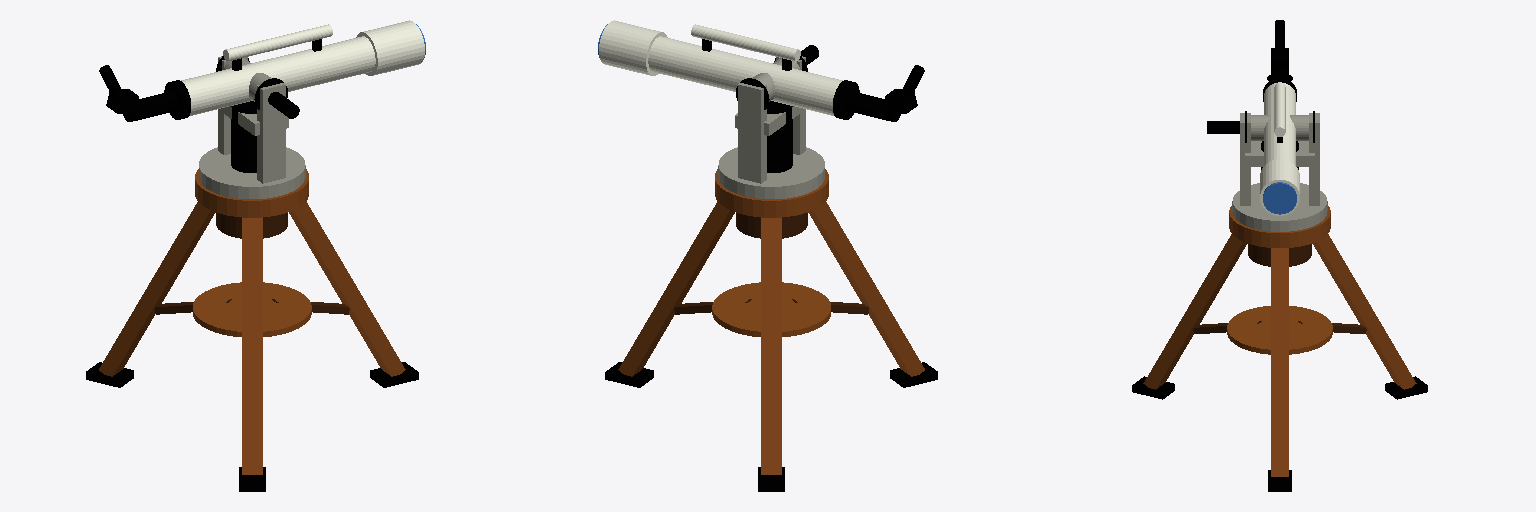
robot.urdf — refractor_telescope_altaz_tripod:
<robot name="refractor_telescope_altaz_tripod">
  <material name="warm_oiled_wood">
    <color rgba="0.55 0.31 0.13 1" />
    </material>
  <material name="dark_end_grain">
    <color rgba="0.28 0.16 0.08 1" />
    </material>
  <material name="white_enamel">
    <color rgba="0.92 0.92 0.86 1" />
    </material>
  <material name="satin_black">
    <color rgba="0.01 0.01 0.012 1" />
    </material>
  <material name="brushed_aluminum">
    <color rgba="0.62 0.62 0.58 1" />
    </material>
  <material name="blue_coated_glass">
    <color rgba="0.25 0.48 0.78 0.62" />
    </material>
  <link name="tripod">
    <visual name="tripod_top">
      <origin xyz="0 0 1.0125" rpy="0 0 0" />
      <geometry>
        <cylinder radius="0.23" length="0.075" />
        </geometry>
      <material name="warm_oiled_wood">
        <color rgba="0.55 0.31 0.13 1" />
        </material>
      </visual>
    <visual name="central_hub">
      <origin xyz="0 0 0.93" rpy="0 0 0" />
      <geometry>
        <cylinder radius="0.145" length="0.18" />
        </geometry>
      <material name="dark_end_grain">
        <color rgba="0.28 0.16 0.08 1" />
        </material>
      </visual>
    <visual name="accessory_tray">
      <origin xyz="0 0 0.46" rpy="0 0 0" />
      <geometry>
        <cylinder radius="0.24" length="0.025" />
        </geometry>
      <material name="warm_oiled_wood">
        <color rgba="0.55 0.31 0.13 1" />
        </material>
      </visual>
    <visual name="leg_0">
      <origin xyz="0.405 0 0.5075" rpy="0 2.64671 0" />
      <geometry>
        <box size="0.065 0.085 1.07384" />
        </geometry>
      <material name="warm_oiled_wood">
        <color rgba="0.55 0.31 0.13 1" />
        </material>
      </visual>
    <visual name="rubber_foot_0">
      <origin xyz="0.66 0 0.0175" rpy="0 0 0" />
      <geometry>
        <box size="0.16 0.11 0.035" />
        </geometry>
      <material name="satin_black">
        <color rgba="0.01 0.01 0.012 1" />
        </material>
      </visual>
    <visual name="tray_brace_0">
      <origin xyz="0.27 0 0.41" rpy="0 1.85685 0" />
      <geometry>
        <box size="0.032 0.038 0.354401" />
        </geometry>
      <material name="dark_end_grain">
        <color rgba="0.28 0.16 0.08 1" />
        </material>
      </visual>
    <visual name="leg_1">
      <origin xyz="-0.2025 0.35074 0.5075" rpy="0 2.64671 2.0944" />
      <geometry>
        <box size="0.065 0.085 1.07384" />
        </geometry>
      <material name="warm_oiled_wood">
        <color rgba="0.55 0.31 0.13 1" />
        </material>
      </visual>
    <visual name="rubber_foot_1">
      <origin xyz="-0.33 0.571577 0.0175" rpy="0 0 2.0944" />
      <geometry>
        <box size="0.16 0.11 0.035" />
        </geometry>
      <material name="satin_black">
        <color rgba="0.01 0.01 0.012 1" />
        </material>
      </visual>
    <visual name="tray_brace_1">
      <origin xyz="-0.135 0.233827 0.41" rpy="0 1.85685 2.0944" />
      <geometry>
        <box size="0.032 0.038 0.354401" />
        </geometry>
      <material name="dark_end_grain">
        <color rgba="0.28 0.16 0.08 1" />
        </material>
      </visual>
    <visual name="leg_2">
      <origin xyz="-0.2025 -0.35074 0.5075" rpy="0 2.64671 4.18879" />
      <geometry>
        <box size="0.065 0.085 1.07384" />
        </geometry>
      <material name="warm_oiled_wood">
        <color rgba="0.55 0.31 0.13 1" />
        </material>
      </visual>
    <visual name="rubber_foot_2">
      <origin xyz="-0.33 -0.571577 0.0175" rpy="0 0 4.18879" />
      <geometry>
        <box size="0.16 0.11 0.035" />
        </geometry>
      <material name="satin_black">
        <color rgba="0.01 0.01 0.012 1" />
        </material>
      </visual>
    <visual name="tray_brace_2">
      <origin xyz="-0.135 -0.233827 0.41" rpy="0 1.85685 4.18879" />
      <geometry>
        <box size="0.032 0.038 0.354401" />
        </geometry>
      <material name="dark_end_grain">
        <color rgba="0.28 0.16 0.08 1" />
        </material>
      </visual>
    <collision name="tripod_top">
      <origin xyz="0 0 1.0125" rpy="0 0 0" />
      <geometry>
        <cylinder radius="0.23" length="0.075" />
        </geometry>
      </collision>
    <collision name="central_hub">
      <origin xyz="0 0 0.93" rpy="0 0 0" />
      <geometry>
        <cylinder radius="0.145" length="0.18" />
        </geometry>
      </collision>
    <collision name="accessory_tray">
      <origin xyz="0 0 0.46" rpy="0 0 0" />
      <geometry>
        <cylinder radius="0.24" length="0.025" />
        </geometry>
      </collision>
    <collision name="leg_0">
      <origin xyz="0.405 0 0.5075" rpy="0 2.64671 0" />
      <geometry>
        <box size="0.065 0.085 1.07384" />
        </geometry>
      </collision>
    <collision name="rubber_foot_0">
      <origin xyz="0.66 0 0.0175" rpy="0 0 0" />
      <geometry>
        <box size="0.16 0.11 0.035" />
        </geometry>
      </collision>
    <collision name="tray_brace_0">
      <origin xyz="0.27 0 0.41" rpy="0 1.85685 0" />
      <geometry>
        <box size="0.032 0.038 0.354401" />
        </geometry>
      </collision>
    <collision name="leg_1">
      <origin xyz="-0.2025 0.35074 0.5075" rpy="0 2.64671 2.0944" />
      <geometry>
        <box size="0.065 0.085 1.07384" />
        </geometry>
      </collision>
    <collision name="rubber_foot_1">
      <origin xyz="-0.33 0.571577 0.0175" rpy="0 0 2.0944" />
      <geometry>
        <box size="0.16 0.11 0.035" />
        </geometry>
      </collision>
    <collision name="tray_brace_1">
      <origin xyz="-0.135 0.233827 0.41" rpy="0 1.85685 2.0944" />
      <geometry>
        <box size="0.032 0.038 0.354401" />
        </geometry>
      </collision>
    <collision name="leg_2">
      <origin xyz="-0.2025 -0.35074 0.5075" rpy="0 2.64671 4.18879" />
      <geometry>
        <box size="0.065 0.085 1.07384" />
        </geometry>
      </collision>
    <collision name="rubber_foot_2">
      <origin xyz="-0.33 -0.571577 0.0175" rpy="0 0 4.18879" />
      <geometry>
        <box size="0.16 0.11 0.035" />
        </geometry>
      </collision>
    <collision name="tray_brace_2">
      <origin xyz="-0.135 -0.233827 0.41" rpy="0 1.85685 4.18879" />
      <geometry>
        <box size="0.032 0.038 0.354401" />
        </geometry>
      </collision>
    </link>
  <link name="azimuth_mount">
    <visual name="azimuth_turntable">
      <origin xyz="0 0 0.0275" rpy="0 0 0" />
      <geometry>
        <cylinder radius="0.215" length="0.055" />
        </geometry>
      <material name="brushed_aluminum">
        <color rgba="0.62 0.62 0.58 1" />
        </material>
      </visual>
    <visual name="center_post">
      <origin xyz="0 0 0.19" rpy="0 0 0" />
      <geometry>
        <cylinder radius="0.085" length="0.3" />
        </geometry>
      <material name="satin_black">
        <color rgba="0.01 0.01 0.012 1" />
        </material>
      </visual>
    <visual name="fork_bridge">
      <origin xyz="0 0 0.29" rpy="0 0 0" />
      <geometry>
        <box size="0.16 0.32 0.055" />
        </geometry>
      <material name="brushed_aluminum">
        <color rgba="0.62 0.62 0.58 1" />
        </material>
      </visual>
    <visual name="fork_arm_0">
      <origin xyz="0 -0.155 0.255" rpy="0 0 0" />
      <geometry>
        <box size="0.11 0.05 0.43" />
        </geometry>
      <material name="brushed_aluminum">
        <color rgba="0.62 0.62 0.58 1" />
        </material>
      </visual>
    <visual name="altitude_bushing_0">
      <origin xyz="0 -0.154225 0.42" rpy="1.5708 0 0" />
      <geometry>
        <cylinder radius="0.075" length="0.012" />
        </geometry>
      <material name="satin_black">
        <color rgba="0.01 0.01 0.012 1" />
        </material>
      </visual>
    <visual name="fork_arm_1">
      <origin xyz="0 0.155 0.255" rpy="0 0 0" />
      <geometry>
        <box size="0.11 0.05 0.43" />
        </geometry>
      <material name="brushed_aluminum">
        <color rgba="0.62 0.62 0.58 1" />
        </material>
      </visual>
    <visual name="altitude_bushing_1">
      <origin xyz="0 0.154225 0.42" rpy="1.5708 0 0" />
      <geometry>
        <cylinder radius="0.075" length="0.012" />
        </geometry>
      <material name="satin_black">
        <color rgba="0.01 0.01 0.012 1" />
        </material>
      </visual>
    <visual name="altitude_lock_knob">
      <origin xyz="0 -0.24 0.42" rpy="1.5708 0 0" />
      <geometry>
        <cylinder radius="0.03" length="0.18" />
        </geometry>
      <material name="satin_black">
        <color rgba="0.01 0.01 0.012 1" />
        </material>
      </visual>
    <collision name="azimuth_turntable">
      <origin xyz="0 0 0.0275" rpy="0 0 0" />
      <geometry>
        <cylinder radius="0.215" length="0.055" />
        </geometry>
      </collision>
    <collision name="center_post">
      <origin xyz="0 0 0.19" rpy="0 0 0" />
      <geometry>
        <cylinder radius="0.085" length="0.3" />
        </geometry>
      </collision>
    <collision name="fork_bridge">
      <origin xyz="0 0 0.29" rpy="0 0 0" />
      <geometry>
        <box size="0.16 0.32 0.055" />
        </geometry>
      </collision>
    <collision name="fork_arm_0">
      <origin xyz="0 -0.155 0.255" rpy="0 0 0" />
      <geometry>
        <box size="0.11 0.05 0.43" />
        </geometry>
      </collision>
    <collision name="altitude_bushing_0">
      <origin xyz="0 -0.154225 0.42" rpy="1.5708 0 0" />
      <geometry>
        <cylinder radius="0.075" length="0.012" />
        </geometry>
      </collision>
    <collision name="fork_arm_1">
      <origin xyz="0 0.155 0.255" rpy="0 0 0" />
      <geometry>
        <box size="0.11 0.05 0.43" />
        </geometry>
      </collision>
    <collision name="altitude_bushing_1">
      <origin xyz="0 0.154225 0.42" rpy="1.5708 0 0" />
      <geometry>
        <cylinder radius="0.075" length="0.012" />
        </geometry>
      </collision>
    <collision name="altitude_lock_knob">
      <origin xyz="0 -0.24 0.42" rpy="1.5708 0 0" />
      <geometry>
        <cylinder radius="0.03" length="0.18" />
        </geometry>
      </collision>
    </link>
  <link name="telescope">
    <visual name="main_tube">
      <origin xyz="0.1 0 0" rpy="0 1.5708 0" />
      <geometry>
        <cylinder radius="0.074" length="0.86" />
        </geometry>
      <material name="white_enamel">
        <color rgba="0.92 0.92 0.86 1" />
        </material>
      </visual>
    <visual name="dew_shield">
      <origin xyz="0.64 0 0" rpy="0 1.5708 0" />
      <geometry>
        <cylinder radius="0.091" length="0.22" />
        </geometry>
      <material name="white_enamel">
        <color rgba="0.92 0.92 0.86 1" />
        </material>
      </visual>
    <visual name="objective_lens">
      <origin xyz="0.756 0 0" rpy="0 1.5708 0" />
      <geometry>
        <cylinder radius="0.078" length="0.012" />
        </geometry>
      <material name="blue_coated_glass">
        <color rgba="0.25 0.48 0.78 0.62" />
        </material>
      </visual>
    <visual name="rear_cell">
      <origin xyz="-0.345 0 0" rpy="0 1.5708 0" />
      <geometry>
        <cylinder radius="0.079" length="0.035" />
        </geometry>
      <material name="satin_black">
        <color rgba="0.01 0.01 0.012 1" />
        </material>
      </visual>
    <visual name="focuser_tube">
      <origin xyz="-0.47 0 0" rpy="0 1.5708 0" />
      <geometry>
        <cylinder radius="0.041" length="0.22" />
        </geometry>
      <material name="satin_black">
        <color rgba="0.01 0.01 0.012 1" />
        </material>
      </visual>
    <visual name="star_diagonal">
      <origin xyz="-0.6 0 0.055" rpy="0 0.25 0" />
      <geometry>
        <box size="0.09 0.085 0.075" />
        </geometry>
      <material name="satin_black">
        <color rgba="0.01 0.01 0.012 1" />
        </material>
      </visual>
    <visual name="eyepiece">
      <origin xyz="-0.645 0 0.135" rpy="0 -0.45 0" />
      <geometry>
        <cylinder radius="0.024" length="0.18" />
        </geometry>
      <material name="satin_black">
        <color rgba="0.01 0.01 0.012 1" />
        </material>
      </visual>
    <visual name="altitude_axle">
      <origin xyz="0 0 0" rpy="1.5708 0 0" />
      <geometry>
        <cylinder radius="0.059" length="0.26" />
        </geometry>
      <material name="brushed_aluminum">
        <color rgba="0.62 0.62 0.58 1" />
        </material>
      </visual>
    <visual name="finder_scope">
      <origin xyz="0.12 0 0.145" rpy="0 1.5708 0" />
      <geometry>
        <cylinder radius="0.025" length="0.48" />
        </geometry>
      <material name="white_enamel">
        <color rgba="0.92 0.92 0.86 1" />
        </material>
      </visual>
    <visual name="finder_bracket_0">
      <origin xyz="-0.07 0 0.095" rpy="0 0 0" />
      <geometry>
        <box size="0.035 0.025 0.105" />
        </geometry>
      <material name="satin_black">
        <color rgba="0.01 0.01 0.012 1" />
        </material>
      </visual>
    <visual name="finder_bracket_1">
      <origin xyz="0.3 0 0.095" rpy="0 0 0" />
      <geometry>
        <box size="0.035 0.025 0.105" />
        </geometry>
      <material name="satin_black">
        <color rgba="0.01 0.01 0.012 1" />
        </material>
      </visual>
    <visual name="focus_knob_0">
      <origin xyz="-0.53 -0.045 0" rpy="0 0 0" />
      <geometry>
        <sphere radius="0.014" />
        </geometry>
      <material name="satin_black">
        <color rgba="0.01 0.01 0.012 1" />
        </material>
      </visual>
    <visual name="focus_knob_1">
      <origin xyz="-0.53 0.045 0" rpy="0 0 0" />
      <geometry>
        <sphere radius="0.014" />
        </geometry>
      <material name="satin_black">
        <color rgba="0.01 0.01 0.012 1" />
        </material>
      </visual>
    <collision name="main_tube">
      <origin xyz="0.1 0 0" rpy="0 1.5708 0" />
      <geometry>
        <cylinder radius="0.074" length="0.86" />
        </geometry>
      </collision>
    <collision name="dew_shield">
      <origin xyz="0.64 0 0" rpy="0 1.5708 0" />
      <geometry>
        <cylinder radius="0.091" length="0.22" />
        </geometry>
      </collision>
    <collision name="objective_lens">
      <origin xyz="0.756 0 0" rpy="0 1.5708 0" />
      <geometry>
        <cylinder radius="0.078" length="0.012" />
        </geometry>
      </collision>
    <collision name="rear_cell">
      <origin xyz="-0.345 0 0" rpy="0 1.5708 0" />
      <geometry>
        <cylinder radius="0.079" length="0.035" />
        </geometry>
      </collision>
    <collision name="focuser_tube">
      <origin xyz="-0.47 0 0" rpy="0 1.5708 0" />
      <geometry>
        <cylinder radius="0.041" length="0.22" />
        </geometry>
      </collision>
    <collision name="star_diagonal">
      <origin xyz="-0.6 0 0.055" rpy="0 0.25 0" />
      <geometry>
        <box size="0.09 0.085 0.075" />
        </geometry>
      </collision>
    <collision name="eyepiece">
      <origin xyz="-0.645 0 0.135" rpy="0 -0.45 0" />
      <geometry>
        <cylinder radius="0.024" length="0.18" />
        </geometry>
      </collision>
    <collision name="altitude_axle">
      <origin xyz="0 0 0" rpy="1.5708 0 0" />
      <geometry>
        <cylinder radius="0.059" length="0.26" />
        </geometry>
      </collision>
    <collision name="finder_scope">
      <origin xyz="0.12 0 0.145" rpy="0 1.5708 0" />
      <geometry>
        <cylinder radius="0.025" length="0.48" />
        </geometry>
      </collision>
    <collision name="finder_bracket_0">
      <origin xyz="-0.07 0 0.095" rpy="0 0 0" />
      <geometry>
        <box size="0.035 0.025 0.105" />
        </geometry>
      </collision>
    <collision name="finder_bracket_1">
      <origin xyz="0.3 0 0.095" rpy="0 0 0" />
      <geometry>
        <box size="0.035 0.025 0.105" />
        </geometry>
      </collision>
    <collision name="focus_knob_0">
      <origin xyz="-0.53 -0.045 0" rpy="0 0 0" />
      <geometry>
        <sphere radius="0.014" />
        </geometry>
      </collision>
    <collision name="focus_knob_1">
      <origin xyz="-0.53 0.045 0" rpy="0 0 0" />
      <geometry>
        <sphere radius="0.014" />
        </geometry>
      </collision>
    </link>
  <joint name="azimuth_axis" type="revolute">
    <origin xyz="0 0 1.05" rpy="0 0 0" />
    <parent link="tripod" />
    <child link="azimuth_mount" />
    <axis xyz="0 0 1" />
    <limit effort="25" velocity="1.2" lower="-3.14159" upper="3.14159" />
    </joint>
  <joint name="altitude_axis" type="revolute">
    <origin xyz="0 0 0.42" rpy="0 0 0" />
    <parent link="azimuth_mount" />
    <child link="telescope" />
    <axis xyz="0 -1 0" />
    <limit effort="16" velocity="0.9" lower="-0.35" upper="1.35" />
    </joint>
  </robot>

--- Facts derived from the render (not from the file) ---
Views: 3 orthographic renders of the robot side by side, from view 1: azimuth 30°, elevation 25°; view 2: azimuth 150°, elevation 25°; view 3: azimuth 270°, elevation 25°.
Robot: refractor_telescope_altaz_tripod — 3 links, 2 joints (2 revolute); root link tripod; default pose: all joints at 0.
Links seen in each view (by area): view 1: tripod, telescope, azimuth_mount; view 2: tripod, telescope, azimuth_mount; view 3: tripod, telescope, azimuth_mount.
Boxes of the visible links, x1,y1,x2,y2 form: tripod: (86, 169, 418, 491); telescope: (99, 20, 425, 121); azimuth_mount: (199, 56, 305, 198); tripod: (605, 169, 937, 491); telescope: (598, 20, 924, 121); azimuth_mount: (718, 45, 824, 198); tripod: (1132, 206, 1427, 491); telescope: (1251, 20, 1308, 215); azimuth_mount: (1207, 111, 1327, 231).
Size in the robot's own frame: 1.47 by 1.34 by 1.7 metres.
Geometry: primitives only (box / cylinder / sphere), no mesh files.
